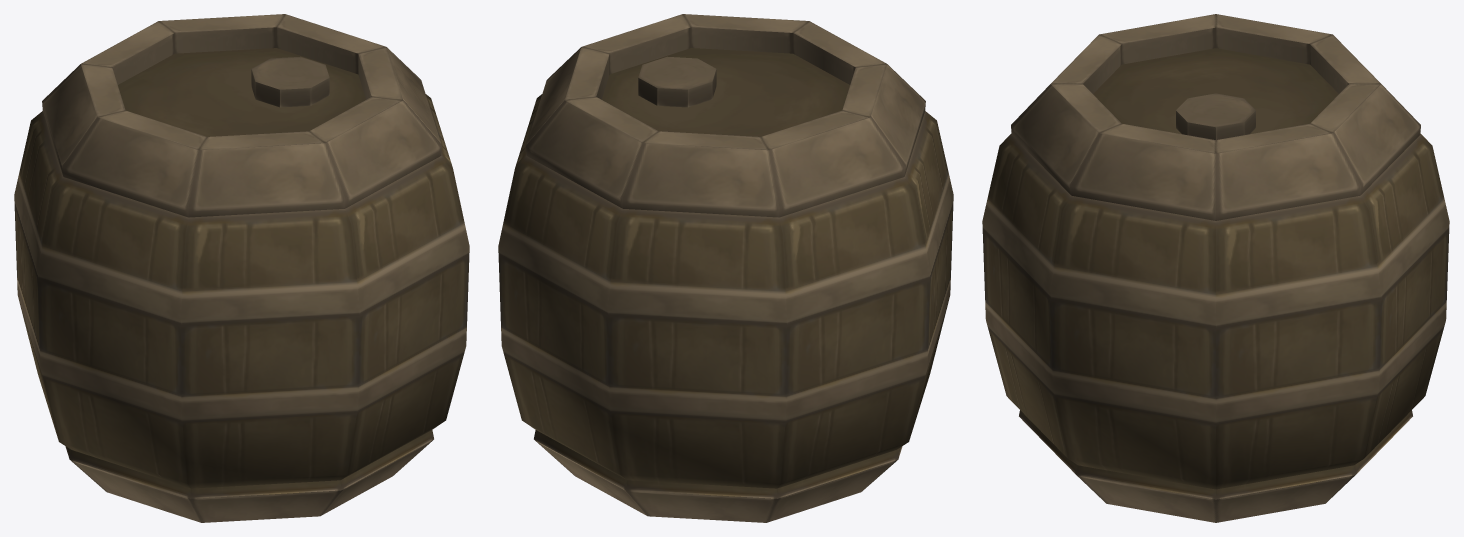
Rendered from s01_barrel.FBX.
The picture shows the model from 3 angles, left to right: view 1: azimuth 30°, elevation 25°; view 2: azimuth 150°, elevation 25°; view 3: azimuth 270°, elevation 25°; orthographic projection.
Parts seen in each view (by area): view 1: s01_barrel; view 2: s01_barrel; view 3: s01_barrel.
Boxes of the visible parts, left/top/right/bottom form: s01_barrel: left=14, top=14, right=469, bottom=522; s01_barrel: left=498, top=14, right=953, bottom=522; s01_barrel: left=982, top=14, right=1449, bottom=522.
Size of the model in its own units: 1.59 by 1.4 by 1.59.
